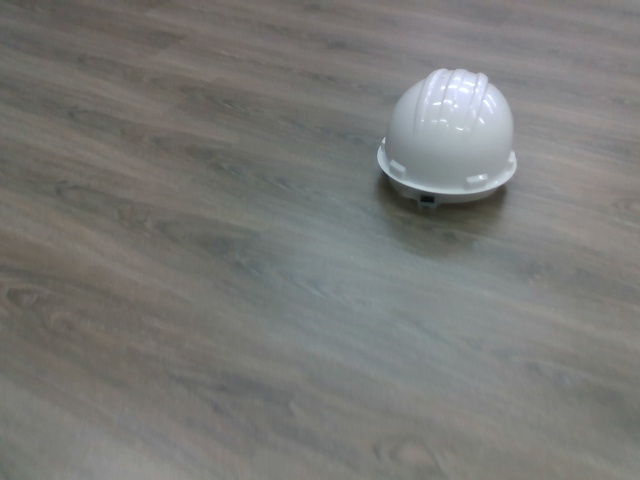helmet: (374, 64, 520, 211)
